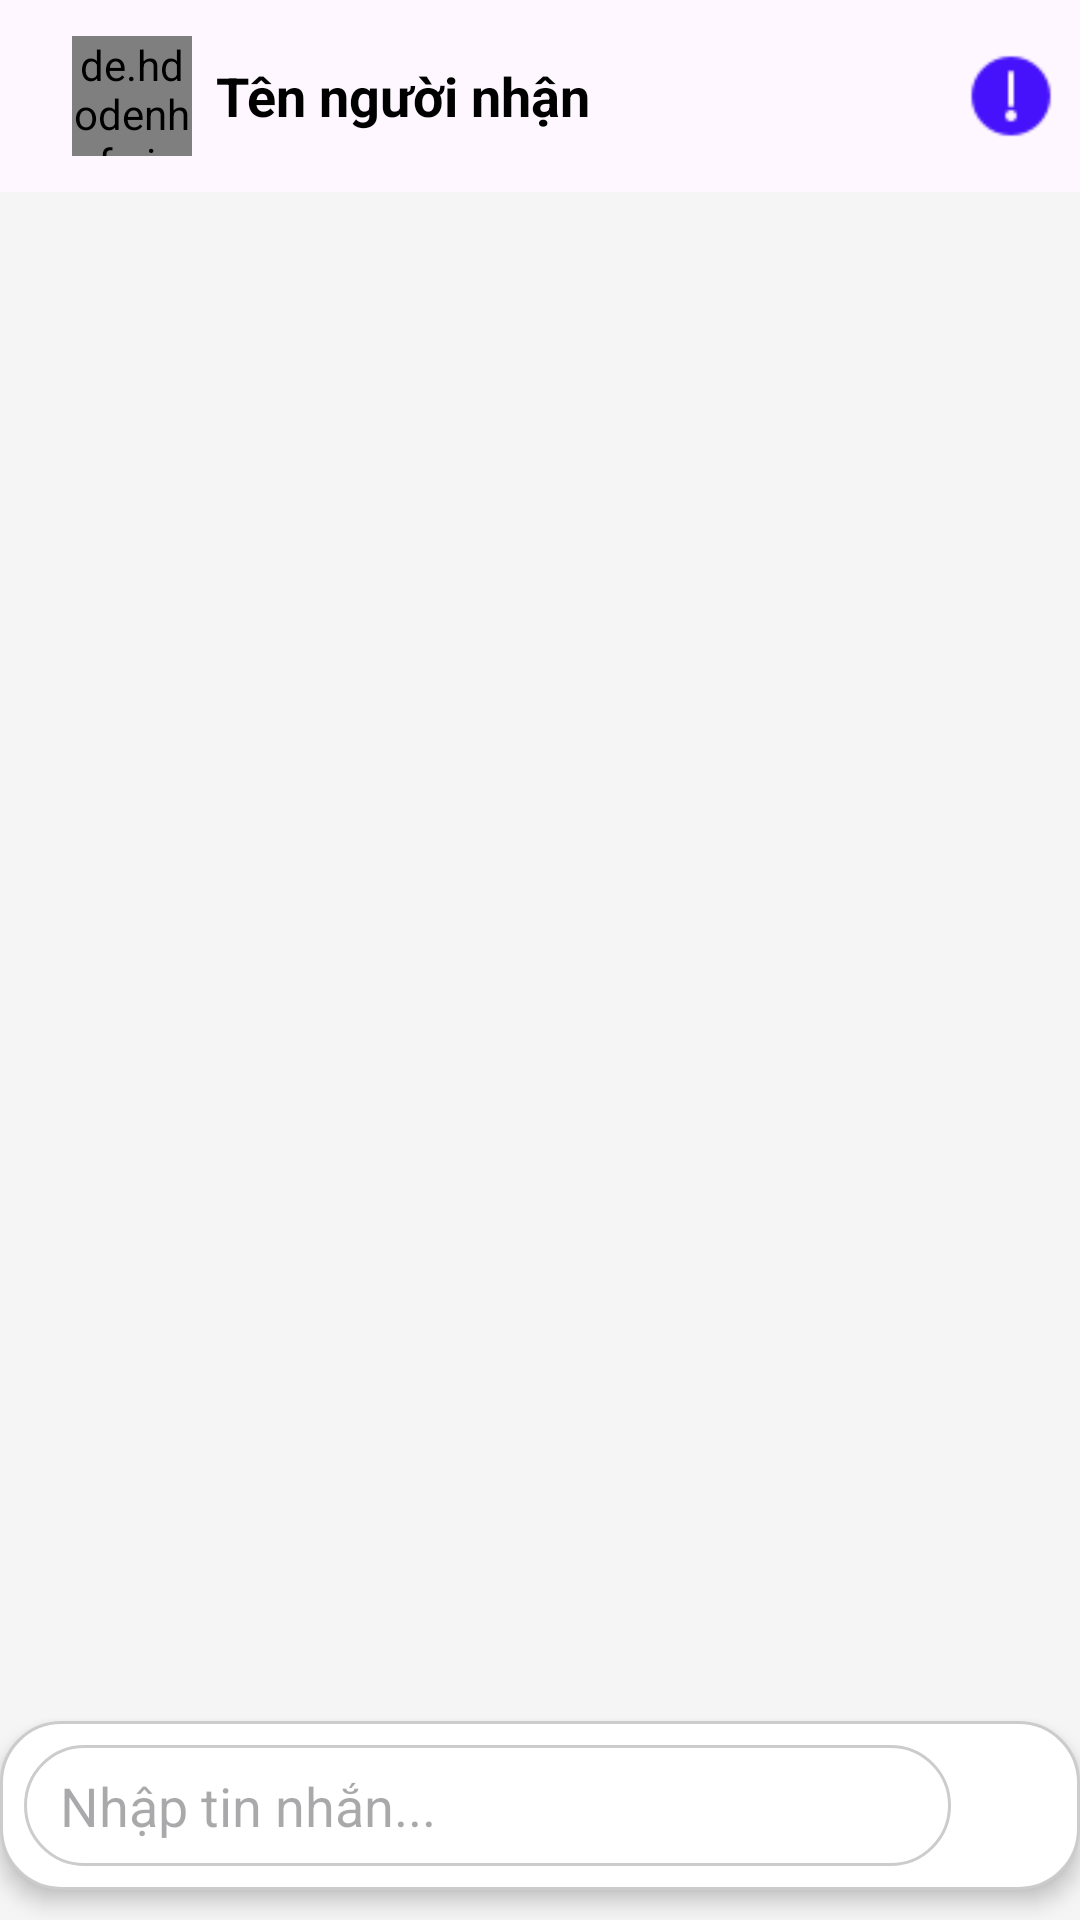

Icons on this 1080w x 1920h Android screen, each with the point to tap as (x=x, y=y):
infomation: (x=1011, y=96)
